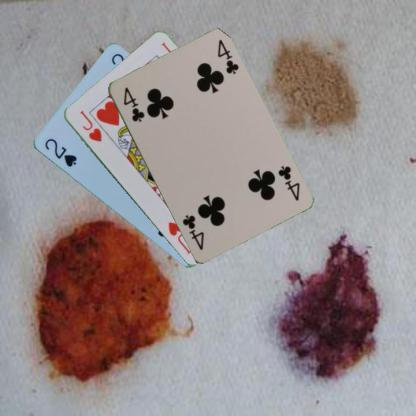2s: (42, 136, 78, 168)
4c: (120, 84, 146, 124), (274, 162, 300, 202)
Jh: (77, 107, 103, 144)
